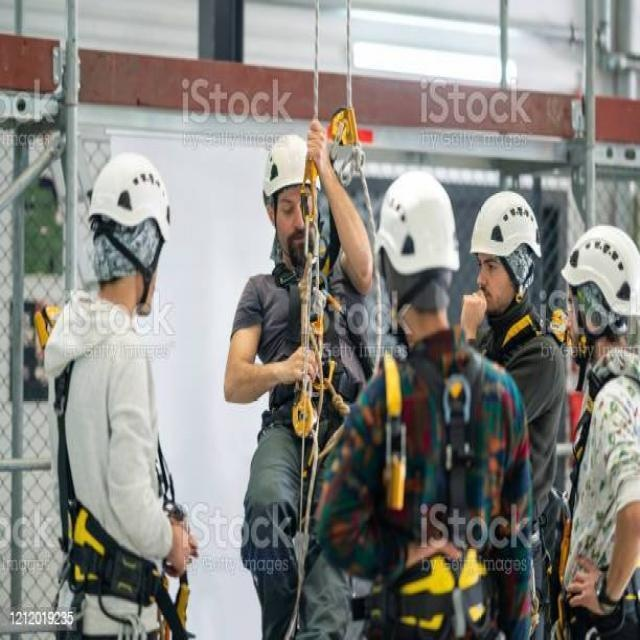Arnes_seguridad: (46, 317, 201, 640), (359, 338, 510, 640), (549, 348, 640, 640), (258, 247, 368, 441)
